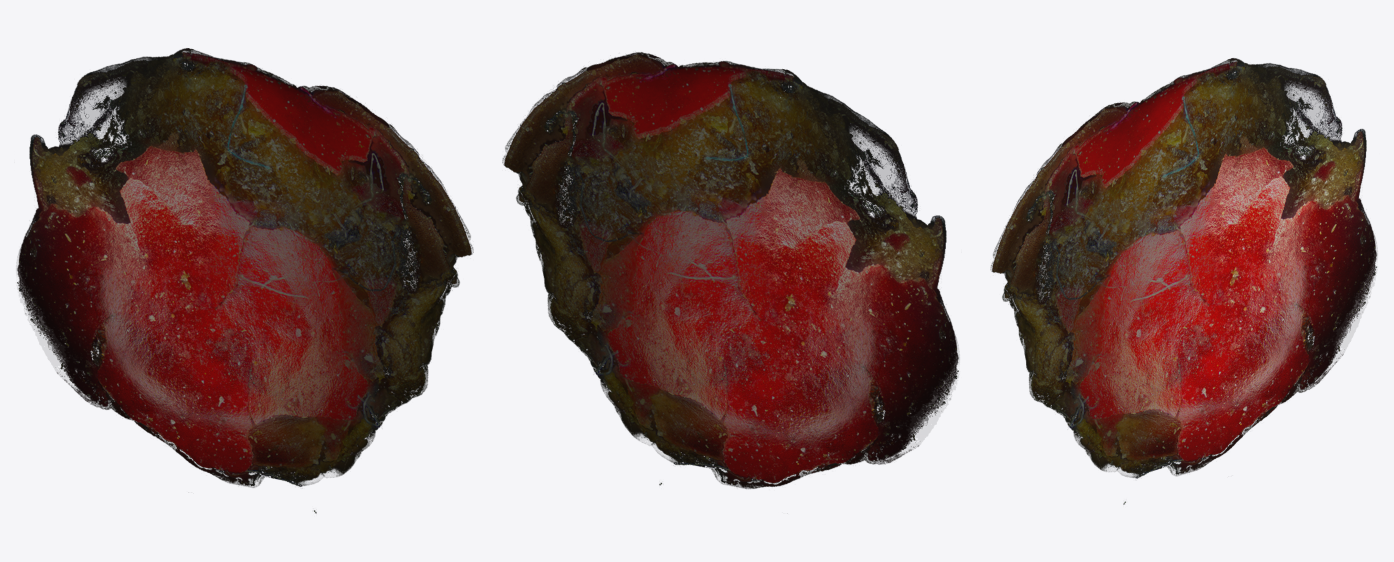
The model's file is grainerouge.glb.
The picture shows the model from 3 angles, left to right: view 1: azimuth 30°, elevation 25°; view 2: azimuth 210°, elevation 25°; view 3: azimuth 270°, elevation 25°; orthographic projection. The views are drawn at different scales.
Visible parts, largest first — view 1: seeds_0028_Calque-15; view 2: seeds_0028_Calque-15; view 3: seeds_0028_Calque-15.
Boxes of the visible parts, left/top/right/bottom form: seeds_0028_Calque-15: left=16, top=48, right=473, bottom=513; seeds_0028_Calque-15: left=502, top=52, right=959, bottom=488; seeds_0028_Calque-15: left=990, top=58, right=1377, bottom=504.
Bounding box in the file's own units: 0.1331 × 0.2234 × 0.1887.
1 material, 1 textured.
